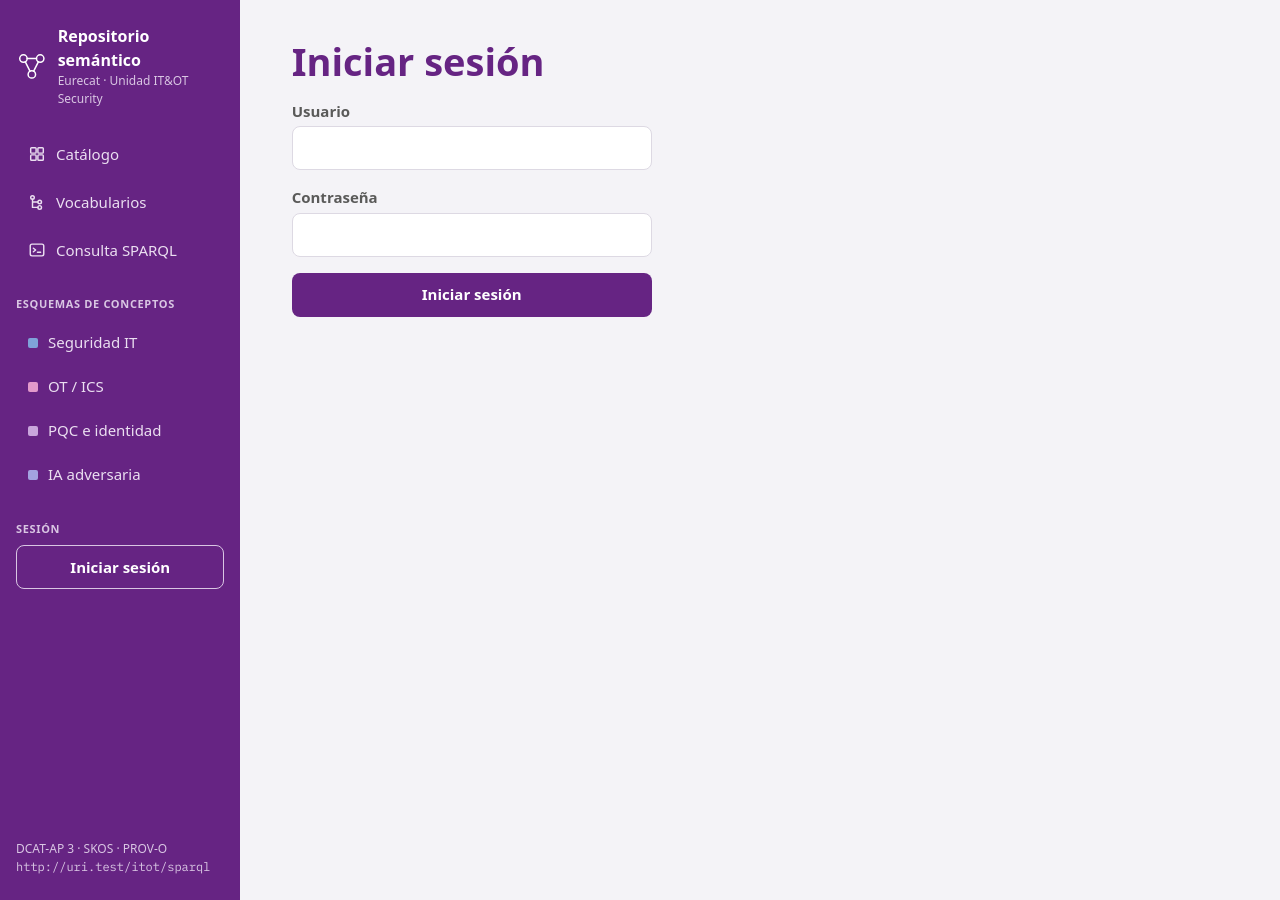
Test: Navegador SKOS · CRUD del esquema (decisión 50) › un esquema auxiliar no tiene acciones ni para el admin
The image size is (1280, 900).
In the field labelled "Usuario": (472, 148) [292,126,652,170], type "usuario-prueba"
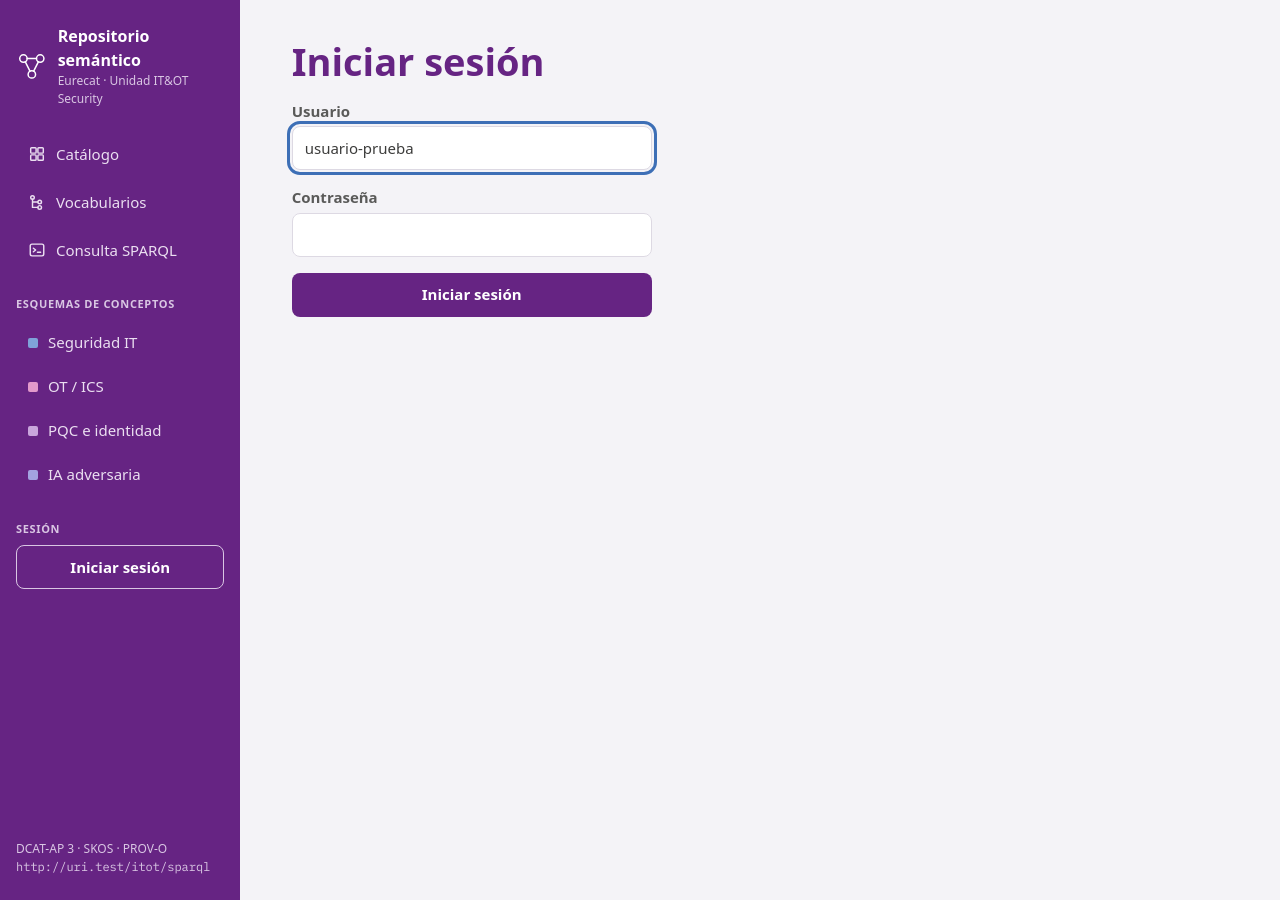
In the password field labelled "Contraseña": (472, 235) [292,213,652,257], type "contrasena-prueba"
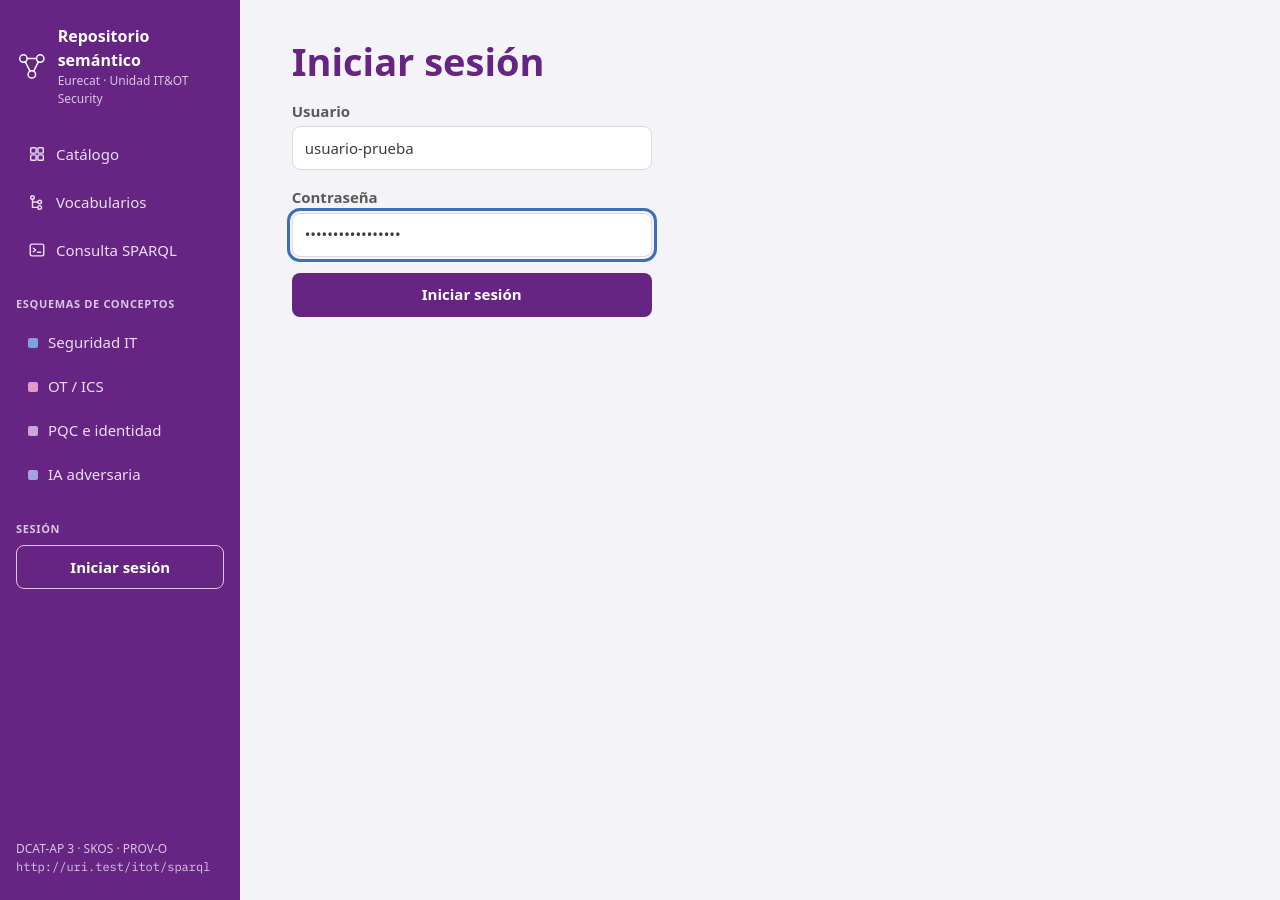
Click the button "Iniciar sesión": click(472, 295) [292,273,652,317]
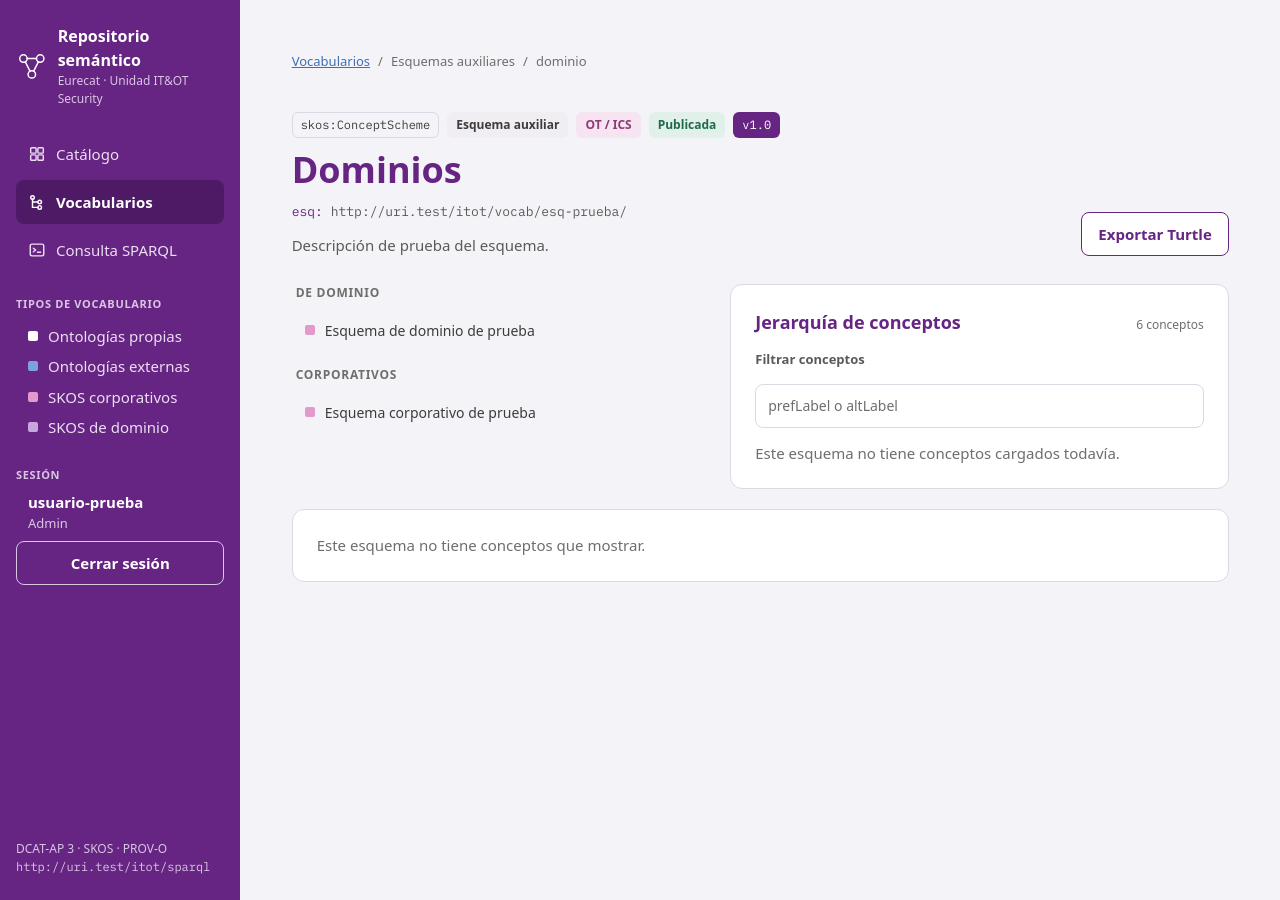
Now the button "Cerrar sesión" is shown, box [16,541,224,585]
Now the heading "Dominios" is shown, box [292,145,462,194]
